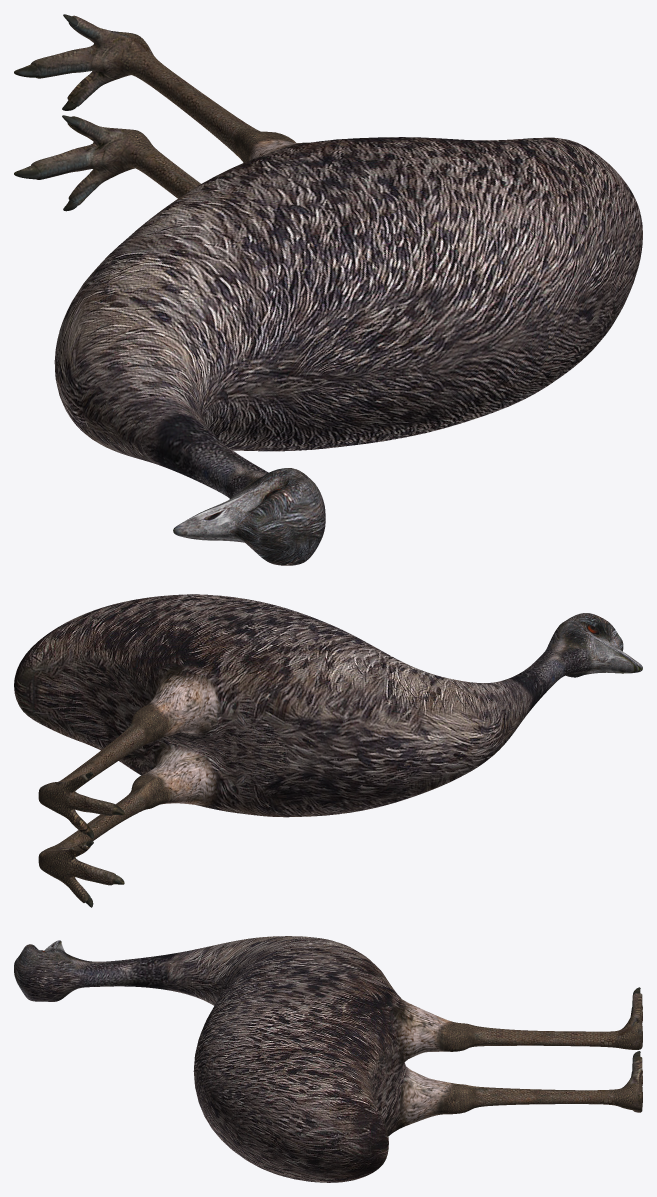
File: birb.obj
The picture shows the model from 3 angles, top to bottom: view 1: azimuth 30°, elevation 25°; view 2: azimuth 150°, elevation 25°; view 3: azimuth 270°, elevation 25°; orthographic projection. The views are drawn at different scales.
Parts seen in each view (by area): view 1: 12246_Bird; view 2: 12246_Bird; view 3: 12246_Bird.
Part boxes in pixels (box(x1,y1,x2,y2)): 12246_Bird: box(14, 14, 642, 565); 12246_Bird: box(14, 594, 642, 907); 12246_Bird: box(14, 936, 642, 1182).
Bounding box in the file's own units: 122 × 43.15 × 156.
